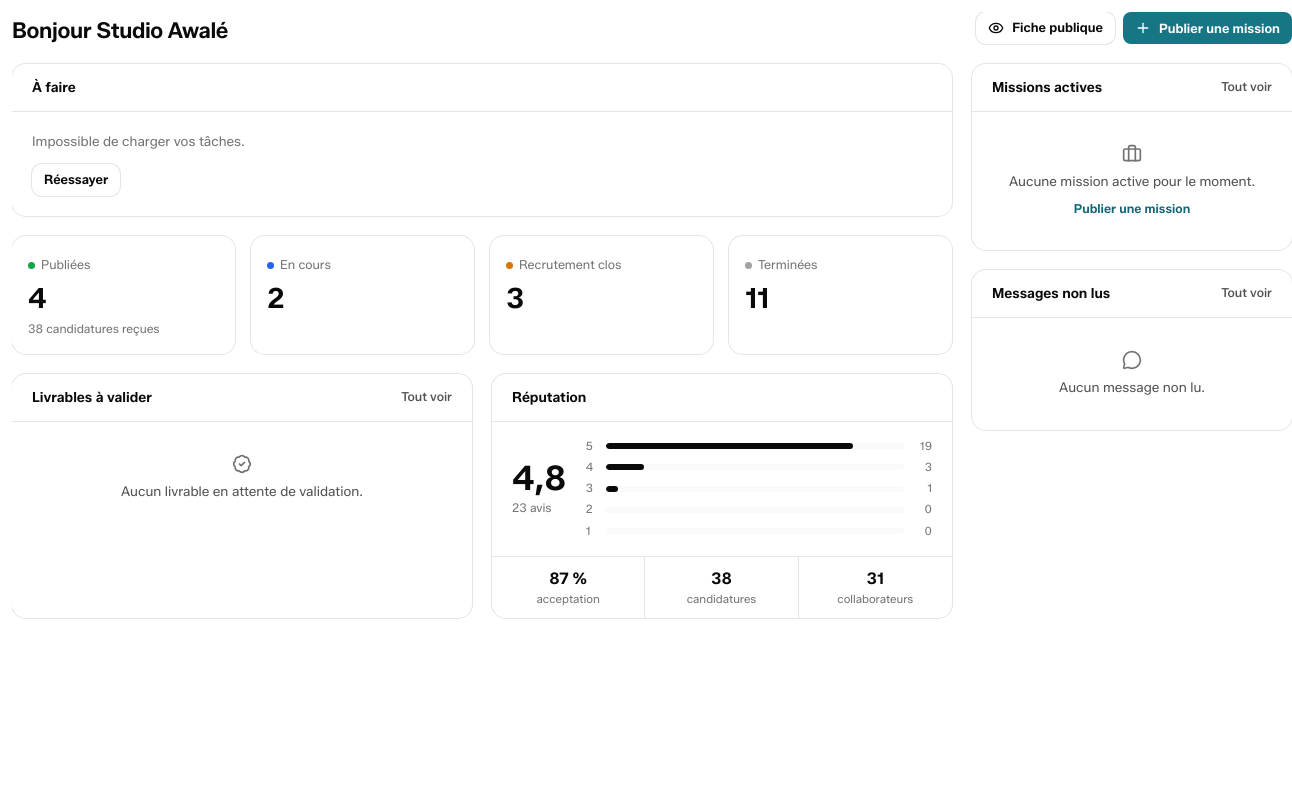
Test: ProducerDashboardPage › « À faire » panel › shows an error with a working retry
The width and height of the screenshot is (1292, 812).
Check: the element with test id "producer-todo-error" is shown, box [32, 133, 245, 196]
Click the text with test id "producer-todo-retry" at [76, 180], box [32, 164, 120, 196]
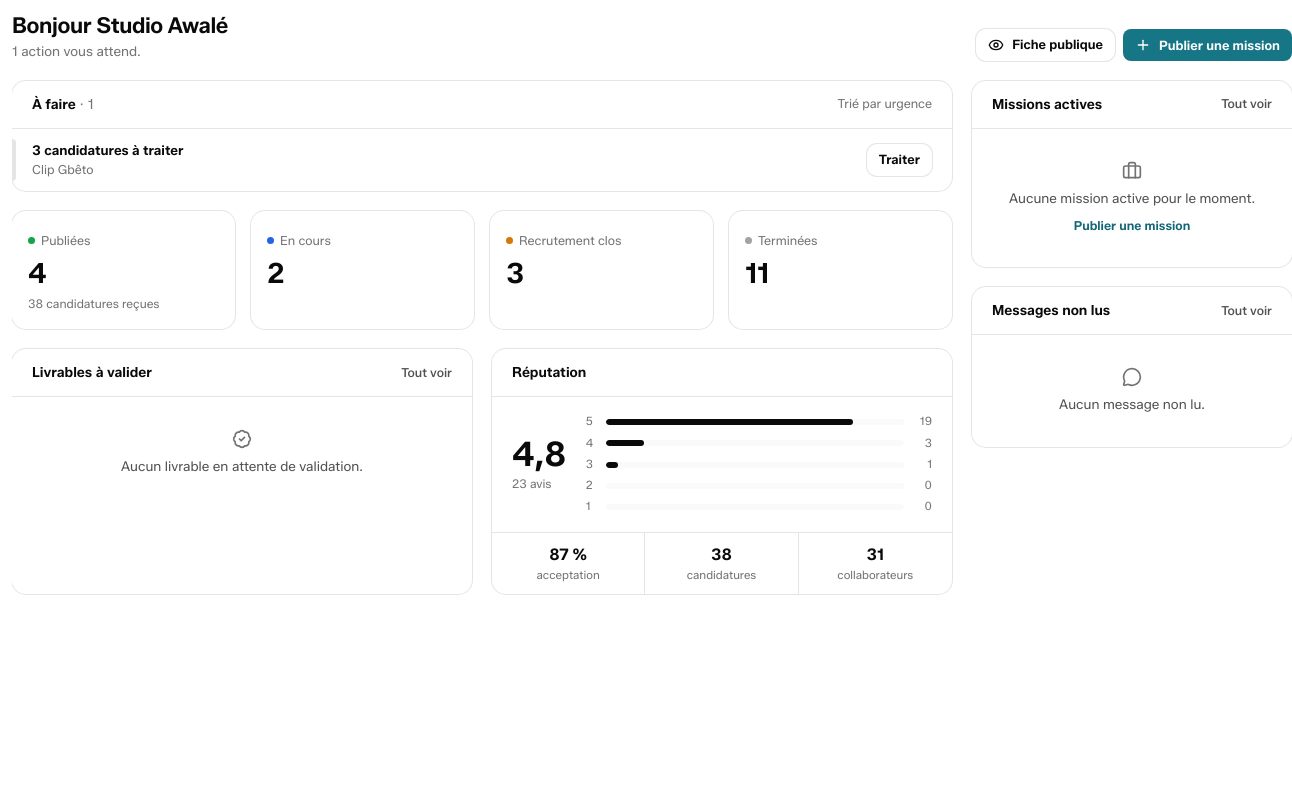
Check: the text "3 candidatures à traiter" is shown, box [32, 142, 184, 158]
